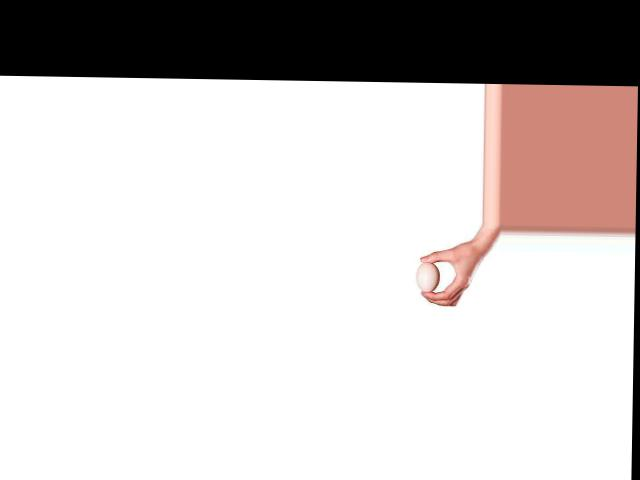egg: (416, 261, 440, 292)
